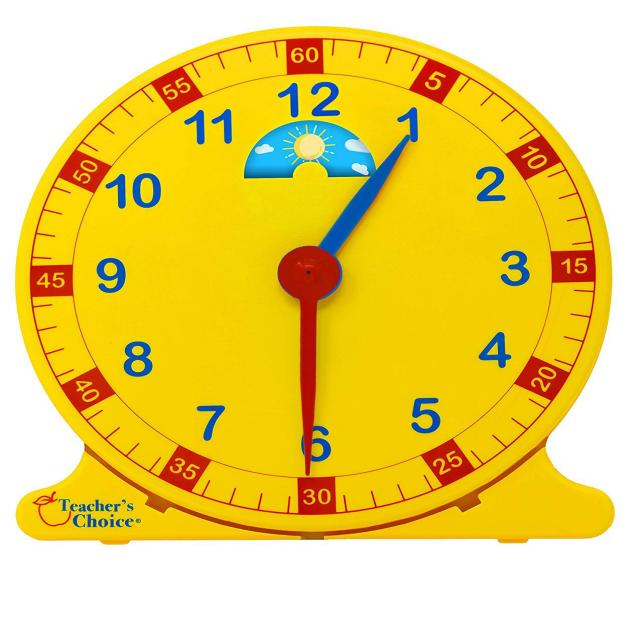clock: (0, 15, 577, 546)
